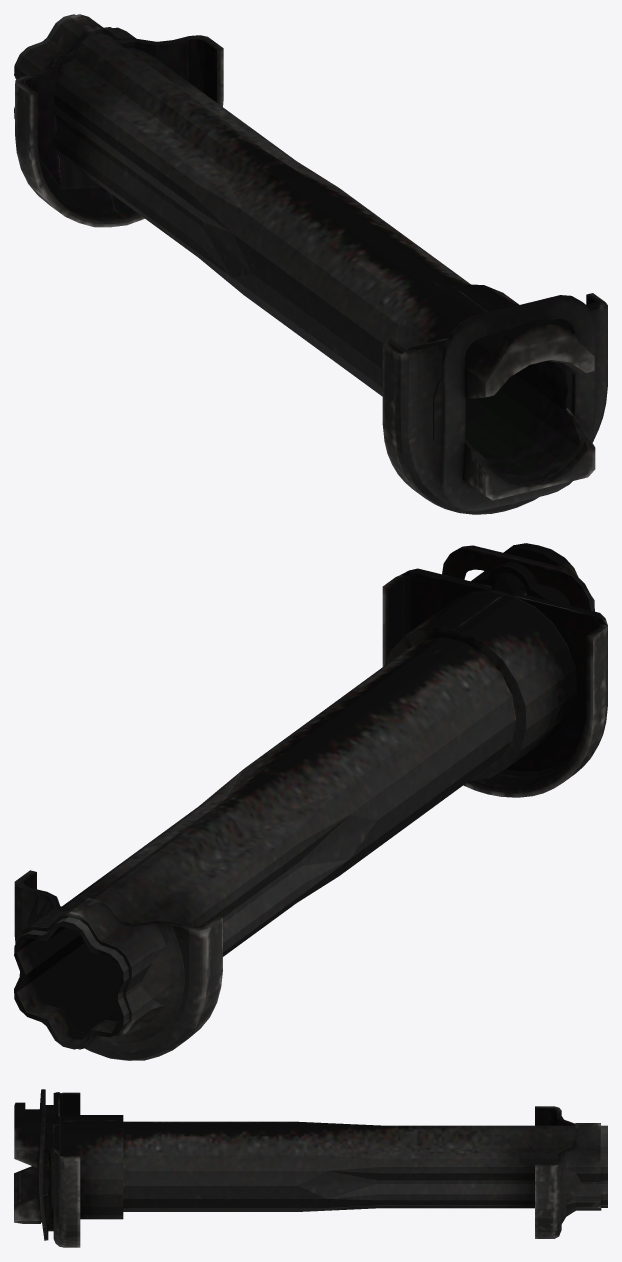
3 views of the same model, one above another, from view 1: azimuth 30°, elevation 25°; view 2: azimuth 150°, elevation 25°; view 3: azimuth 270°, elevation 25° (orthographic). The views are drawn at different scales.
Parts seen in each view (by area): view 1: TW_59ccd11386f77428f24a488f_PZ_Import; view 2: TW_59ccd11386f77428f24a488f_PZ_Import; view 3: TW_59ccd11386f77428f24a488f_PZ_Import.
Boxes of the visible parts, x1=… form: TW_59ccd11386f77428f24a488f_PZ_Import: x1=14, y1=14, x2=607, y2=514; TW_59ccd11386f77428f24a488f_PZ_Import: x1=14, y1=543, x2=607, y2=1060; TW_59ccd11386f77428f24a488f_PZ_Import: x1=14, y1=1089, x2=607, y2=1247.
Bounding box in the file's own units: 0.0201 × 0.0779 × 0.0196.
Materials: 1 (1 with a texture image).
